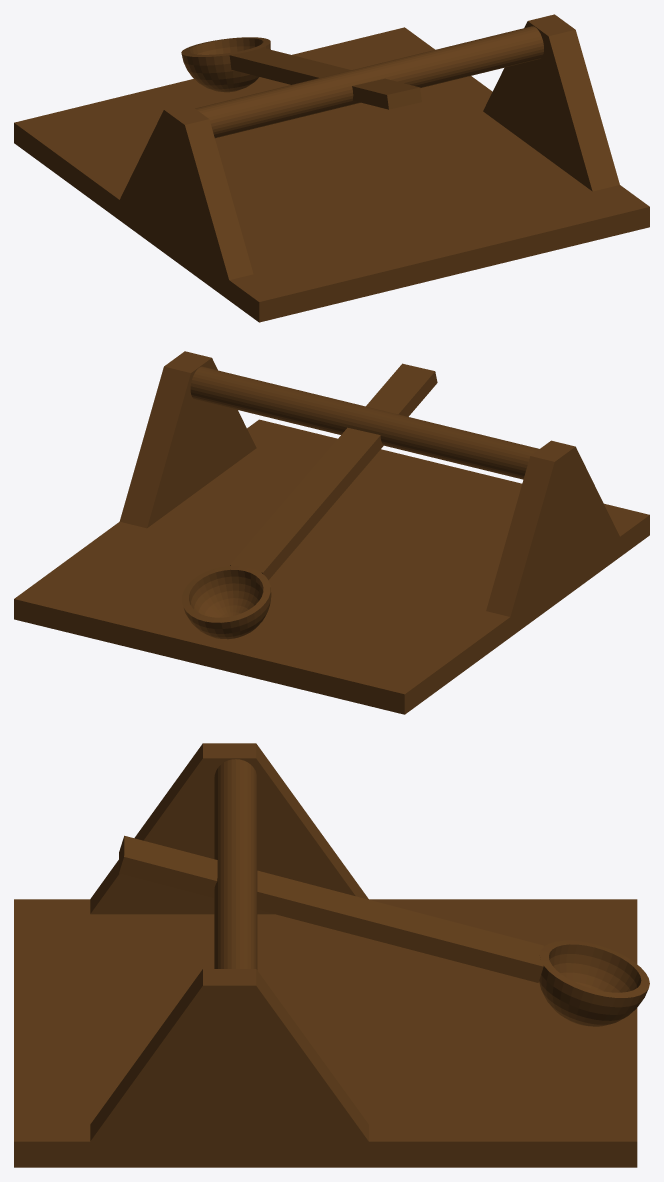
File: catapult.glb
3 views of the same model, one above another, from view 1: azimuth 30°, elevation 25°; view 2: azimuth 150°, elevation 25°; view 3: azimuth 270°, elevation 25° (orthographic). The views are drawn at different scales.
Parts seen in each view (by area): view 1: Cube, Cube.001; view 2: Cube, Cube.001; view 3: Cube, Cube.001.
Boxes of the visible parts, bbox=[...] form: Cube: bbox=[14, 14, 649, 322]; Cube.001: bbox=[181, 37, 421, 109]; Cube: bbox=[14, 351, 649, 714]; Cube.001: bbox=[182, 363, 437, 639]; Cube: bbox=[14, 743, 637, 1167]; Cube.001: bbox=[119, 835, 649, 1026].
Bounding box in the file's own units: 10 × 3.77 × 11.08.
